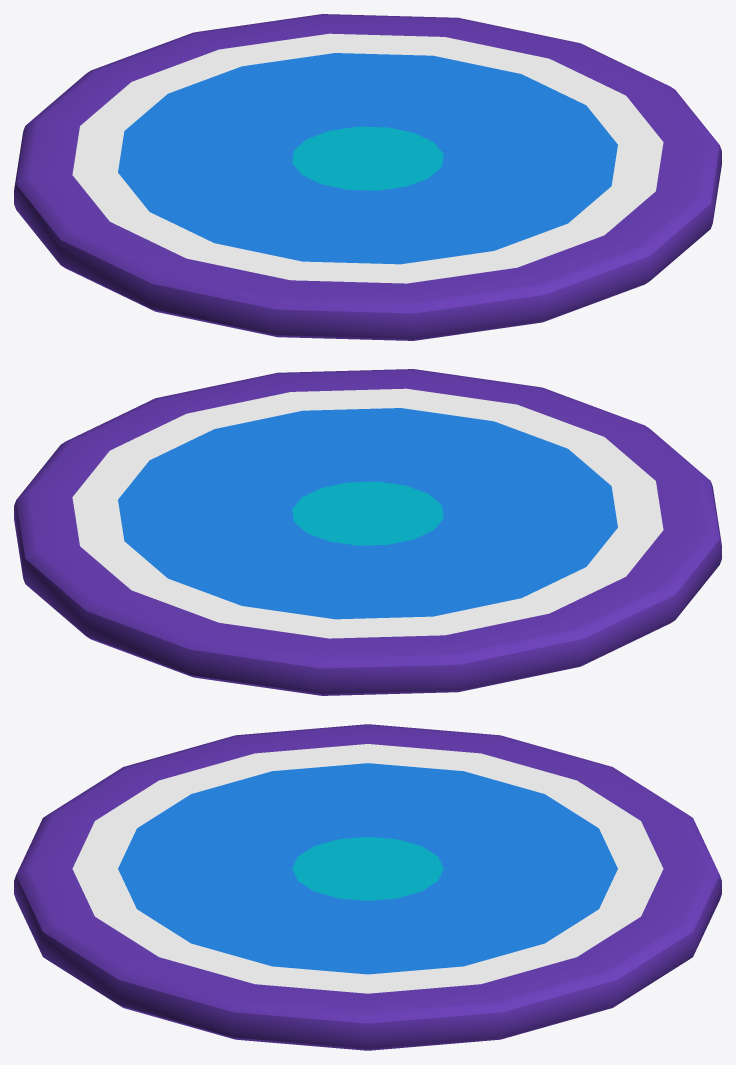
Rendered from Frisbee.fbx.
The picture shows the model from 3 angles, top to bottom: view 1: azimuth 30°, elevation 25°; view 2: azimuth 150°, elevation 25°; view 3: azimuth 270°, elevation 25°; orthographic projection.
Visible parts, largest first — view 1: Frisbee; view 2: Frisbee; view 3: Frisbee.
Boxes of the visible parts, left/top/right/bottom form: Frisbee: left=14, top=14, right=721, bottom=340; Frisbee: left=14, top=369, right=721, bottom=695; Frisbee: left=14, top=724, right=721, bottom=1050.
Bounding box in the file's own units: 31.89 × 1.86 × 31.89.
Materials: 1 (1 with a texture image).
